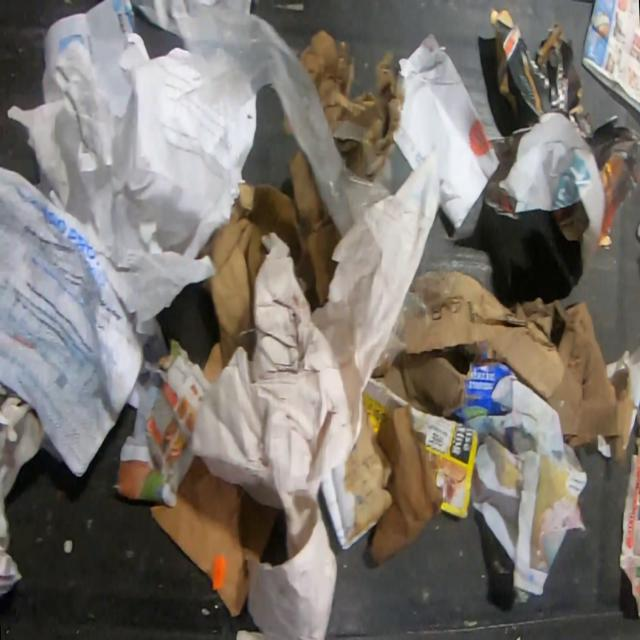cardboard: (391, 268, 633, 462), (194, 147, 341, 368), (150, 454, 282, 615), (298, 30, 406, 182), (372, 354, 466, 418), (202, 340, 224, 387)
soft_plastic: (176, 3, 394, 242)
